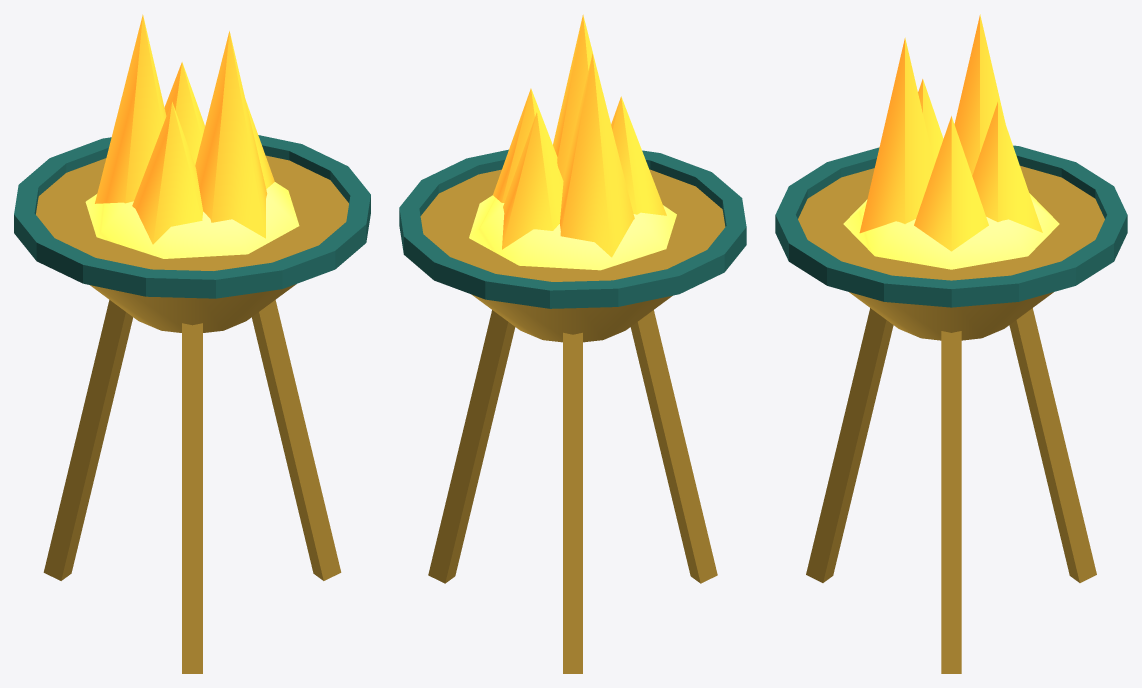
The model's file is jt_fire_bowl.glb.
3 renders of one model, left to right at view 1: azimuth 30°, elevation 25°; view 2: azimuth 150°, elevation 25°; view 3: azimuth 270°, elevation 25°, orthographic. The views are drawn at different scales.
Parts seen in each view (by area): view 1: jt_fire_bowl; view 2: jt_fire_bowl; view 3: jt_fire_bowl.
Part boxes in pixels (bbox=[...]): jt_fire_bowl: bbox=[14, 14, 370, 673]; jt_fire_bowl: bbox=[399, 14, 746, 673]; jt_fire_bowl: bbox=[775, 14, 1127, 673].
Size of the model in its own units: 1.04 by 1.89 by 1.04.
